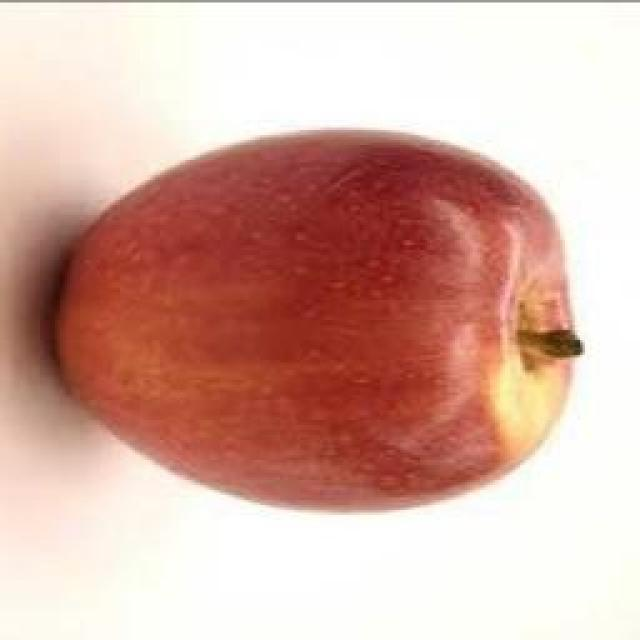Apple: (56, 131, 580, 507), (56, 131, 580, 507)
